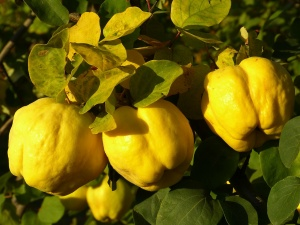Quince: (3, 96, 106, 199), (102, 91, 198, 187), (199, 58, 290, 149)
